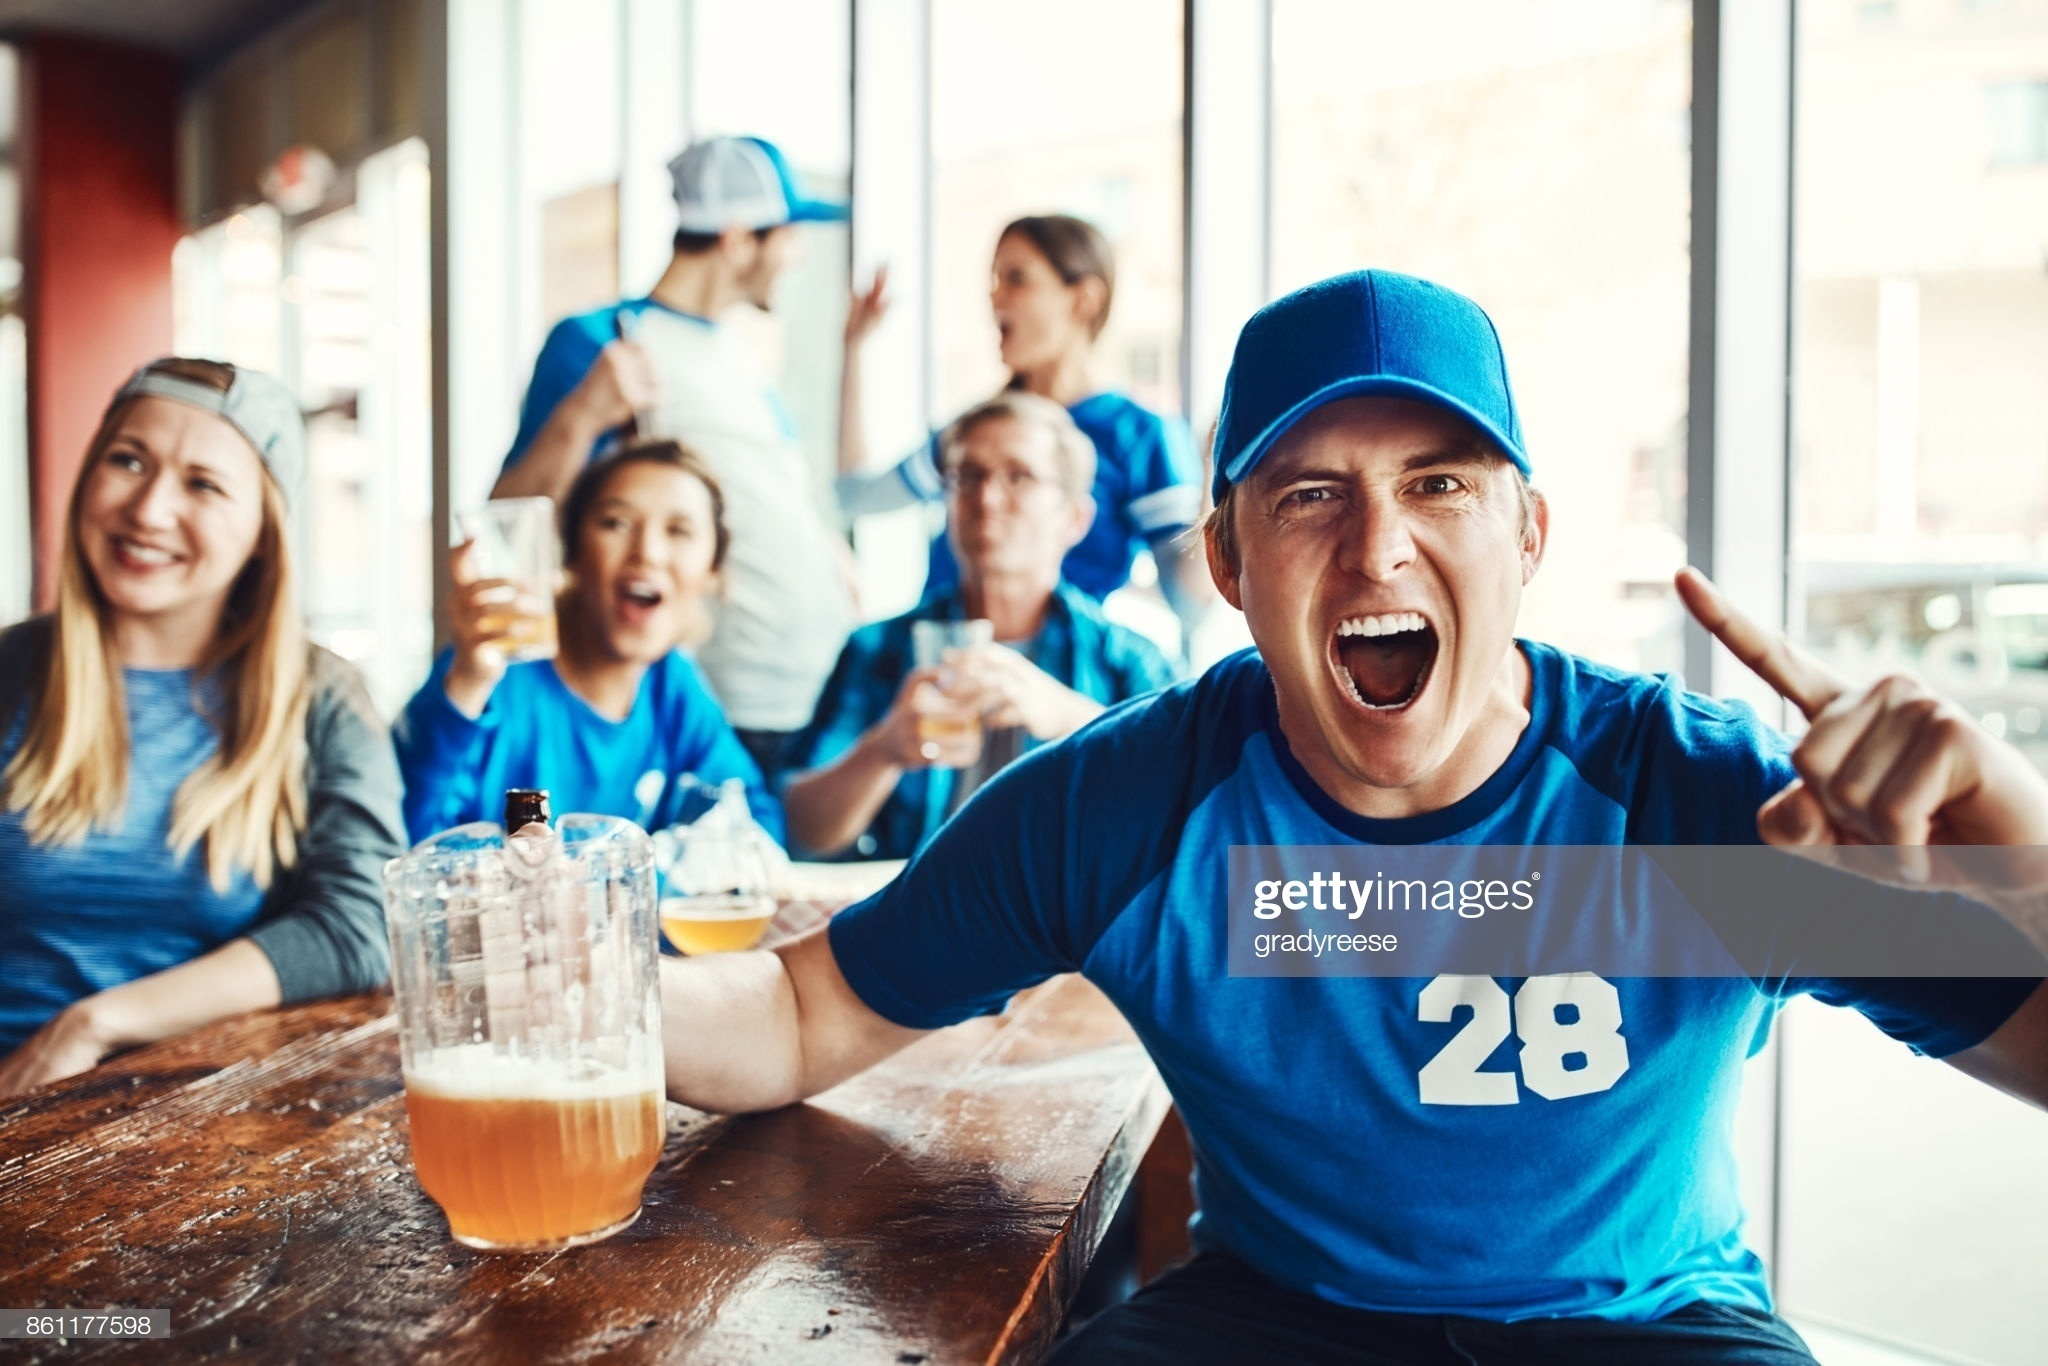whiskey: (405, 813, 664, 1268)
